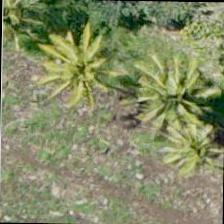Kelapa_Sawit: (120, 43, 212, 135), (28, 25, 119, 118), (144, 104, 223, 196), (1, 0, 62, 62)
